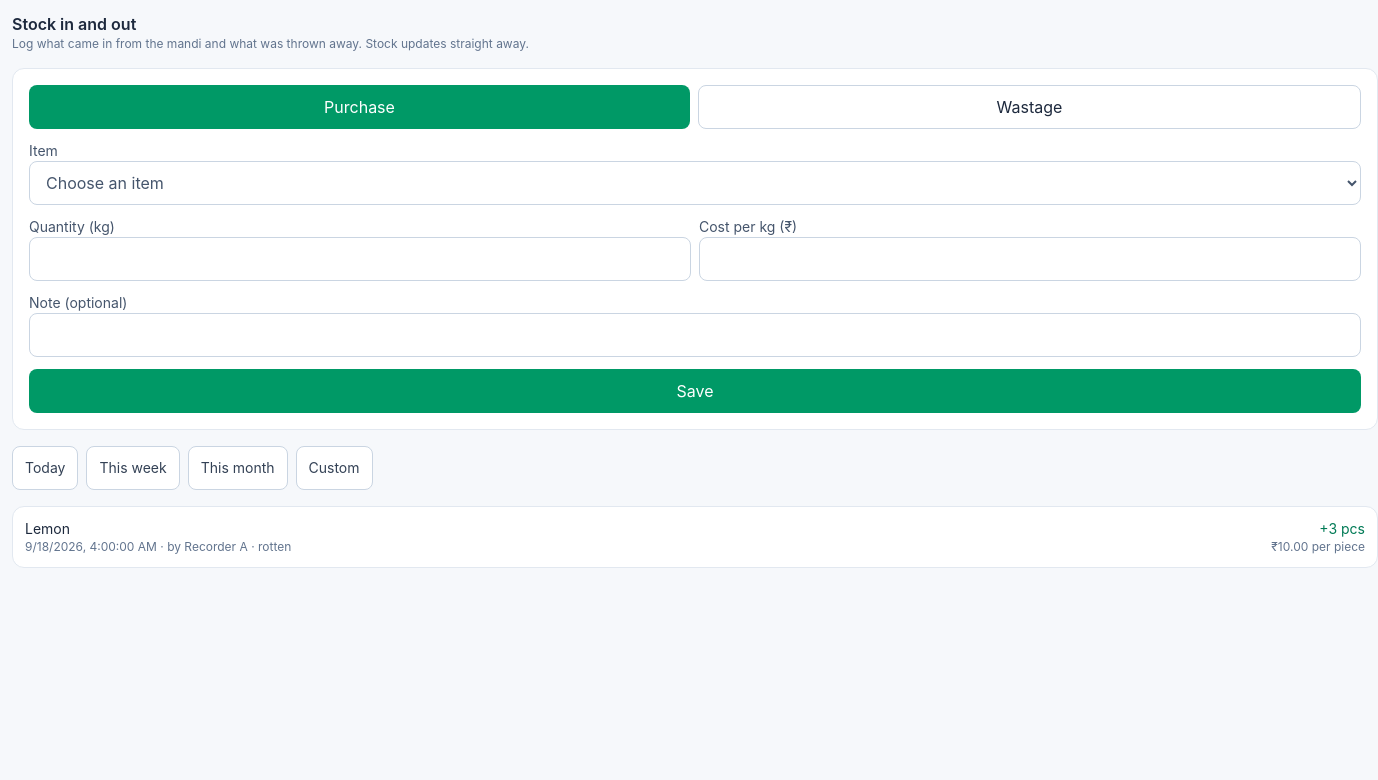
Test: the stock screen › hides the cost field for a wastage
Expected: the list item with test id "stock-row-m1" is shown, [12,506,1377,568]
Click the radio button with test id "stock-kind-wastage": (1030, 107) [698,85,1361,129]
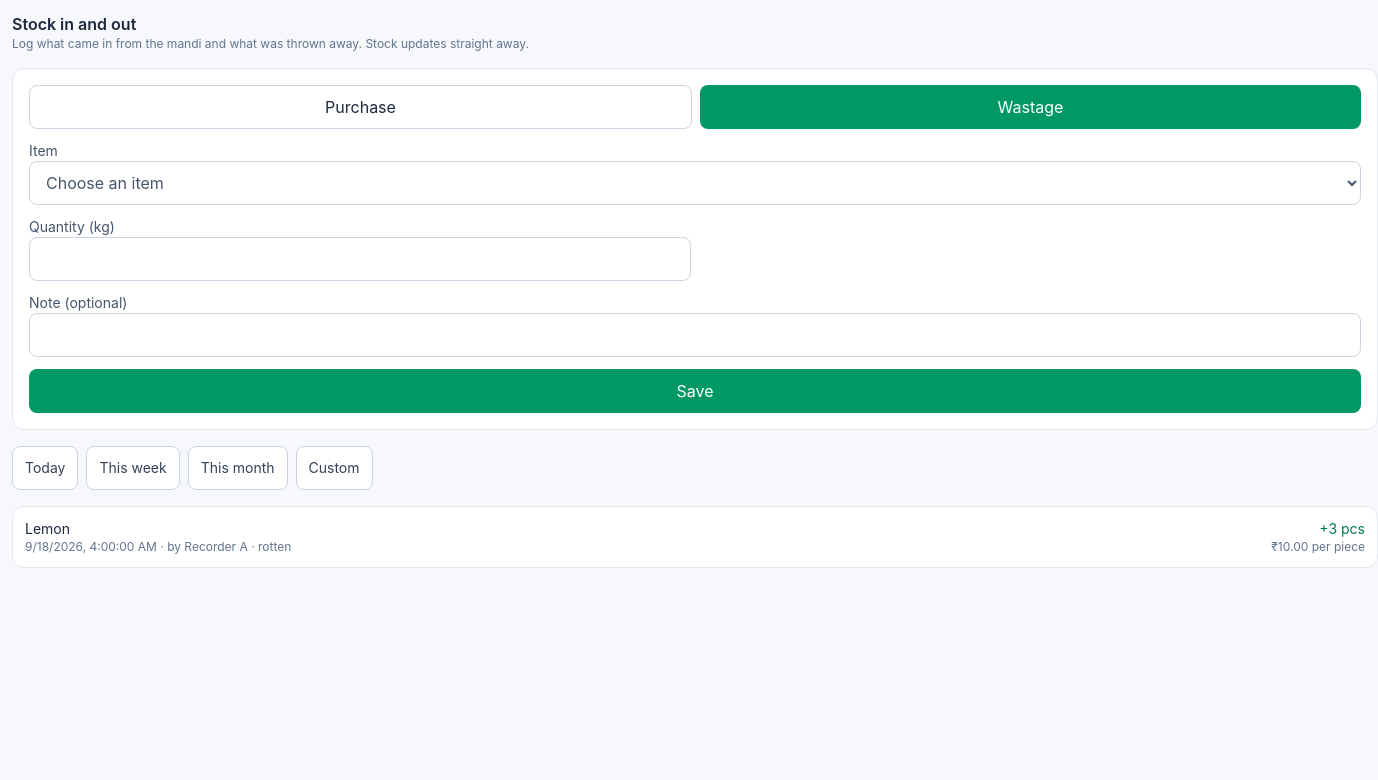
Expected: the field with test id "stock-cost" is gone
